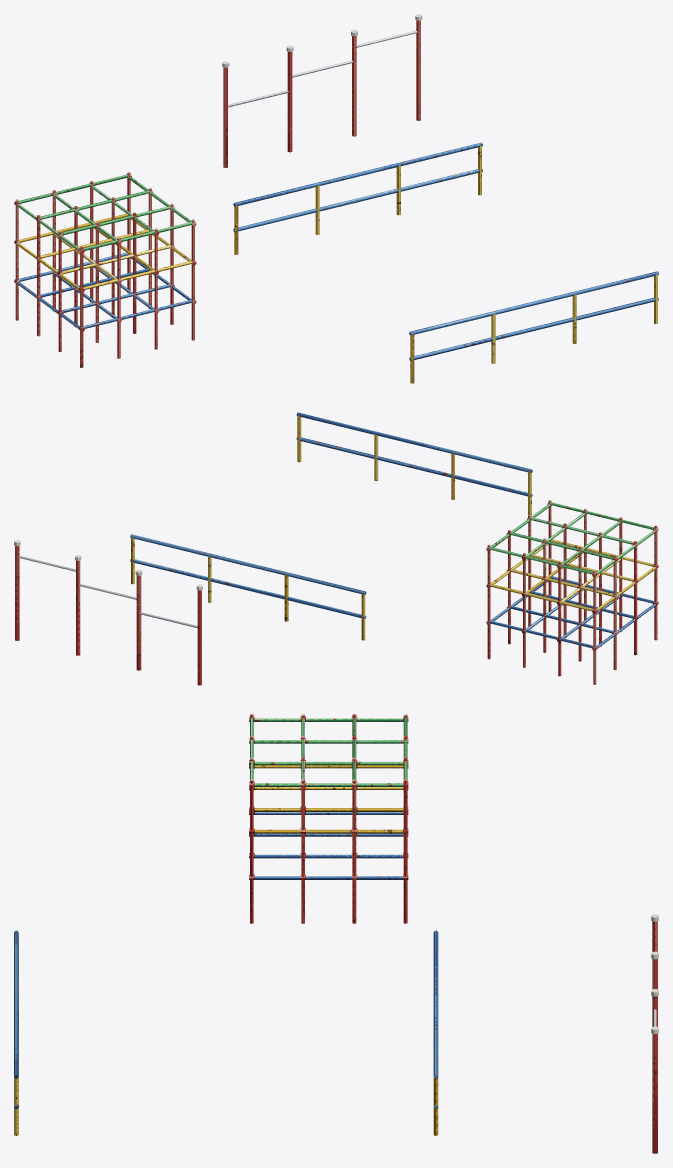
The model's file is playground.glb.
3 views of the same model, one above another, from view 1: azimuth 30°, elevation 25°; view 2: azimuth 150°, elevation 25°; view 3: azimuth 270°, elevation 25° (orthographic). The views are drawn at different scales.
Visible parts, largest first — view 1: playground; view 2: playground; view 3: playground.
Part boxes in pixels (<box>): playground: <box>14,14,658,383</box>; playground: <box>14,412,658,685</box>; playground: <box>14,714,658,1153</box>.
Bounding box in the file's own units: 7.55 × 1.69 × 6.92.
1 material, 1 textured.
